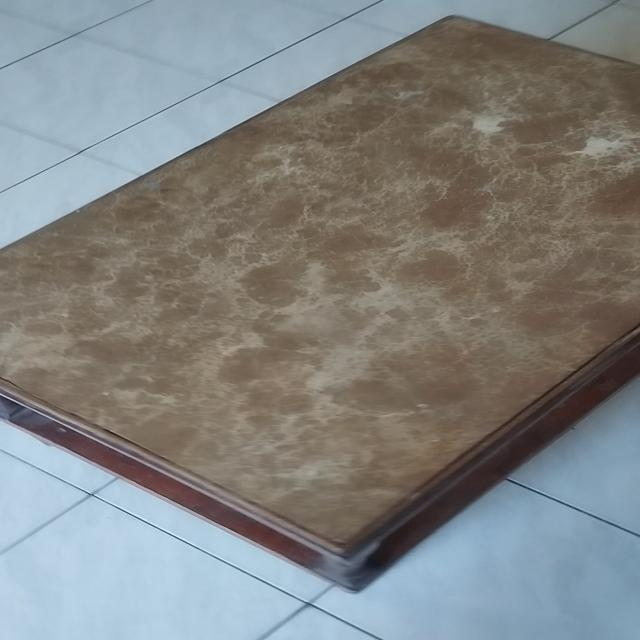table: (4, 9, 640, 594)
